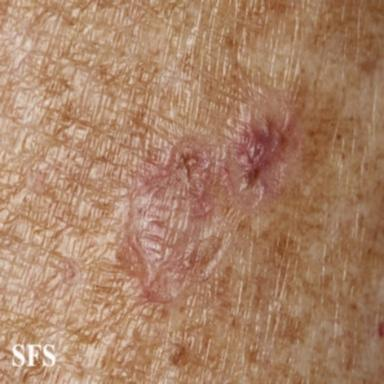Porokeratosis: (118, 136, 224, 301), (223, 109, 302, 212)
